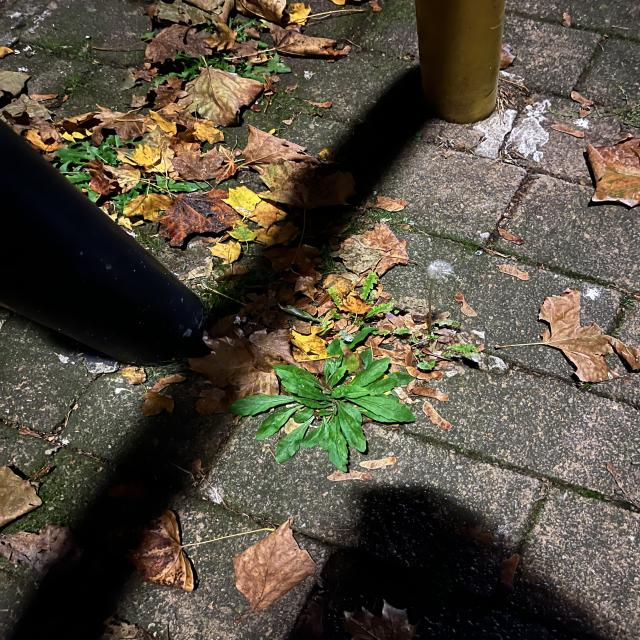leaves: (105, 86, 317, 260), (543, 298, 616, 376), (590, 143, 640, 207)
pavement: (0, 0, 639, 639)
weed: (220, 349, 424, 459), (326, 274, 423, 340), (147, 54, 308, 84), (46, 135, 136, 182), (103, 169, 203, 206)
